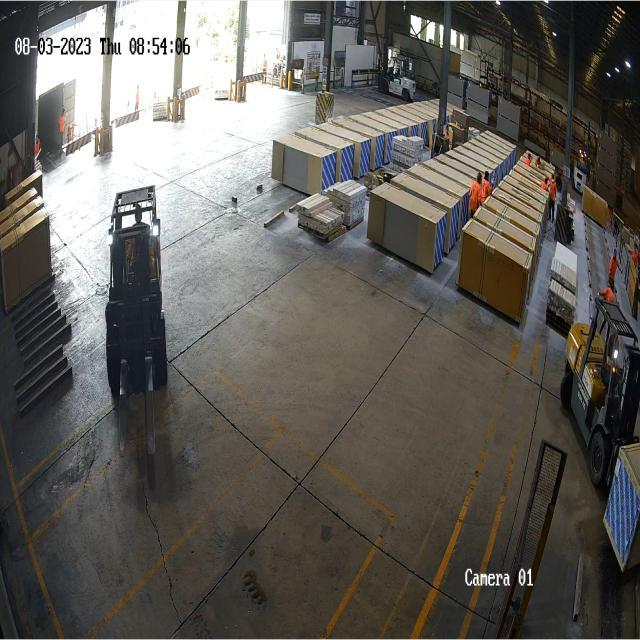forklift: (561, 292, 640, 490), (104, 180, 170, 400)
person: (380, 52, 418, 104), (608, 246, 622, 292), (548, 172, 558, 228), (469, 172, 482, 213), (483, 173, 493, 198), (60, 108, 66, 138), (35, 136, 41, 156)
